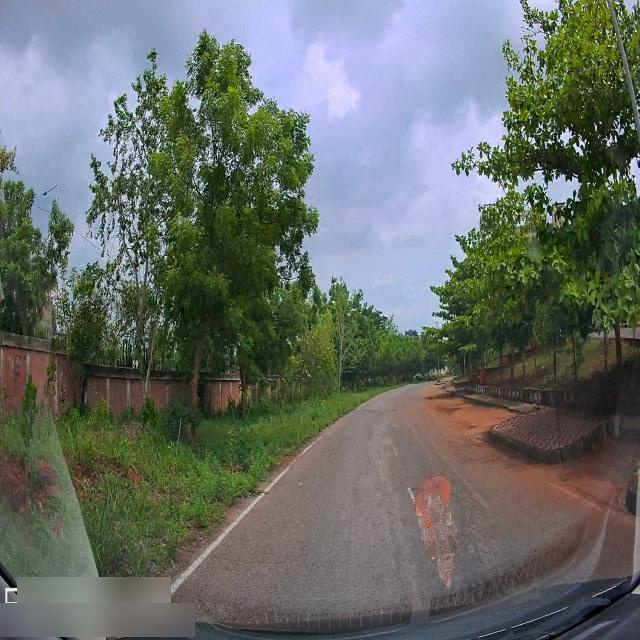pothole: (470, 503, 500, 578), (372, 428, 386, 442), (408, 483, 420, 492), (390, 406, 398, 413)
